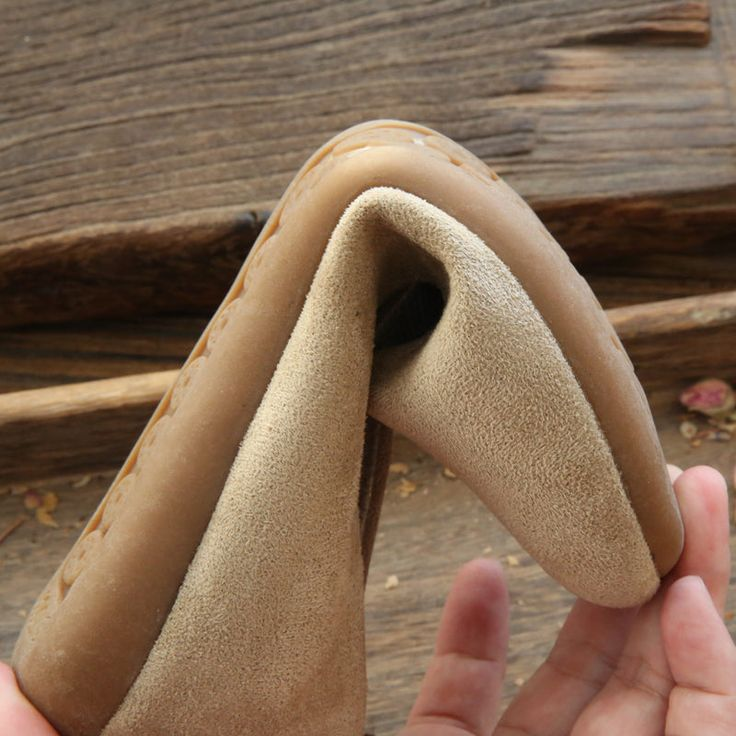gamuza: (100, 186, 660, 736)
